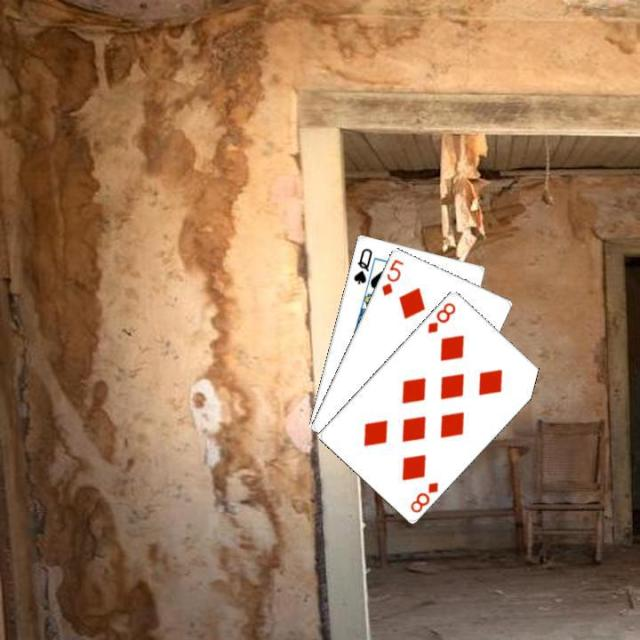5D: (378, 255, 405, 297)
8D: (423, 298, 458, 335), (406, 477, 440, 515)
QS: (350, 244, 374, 286)
